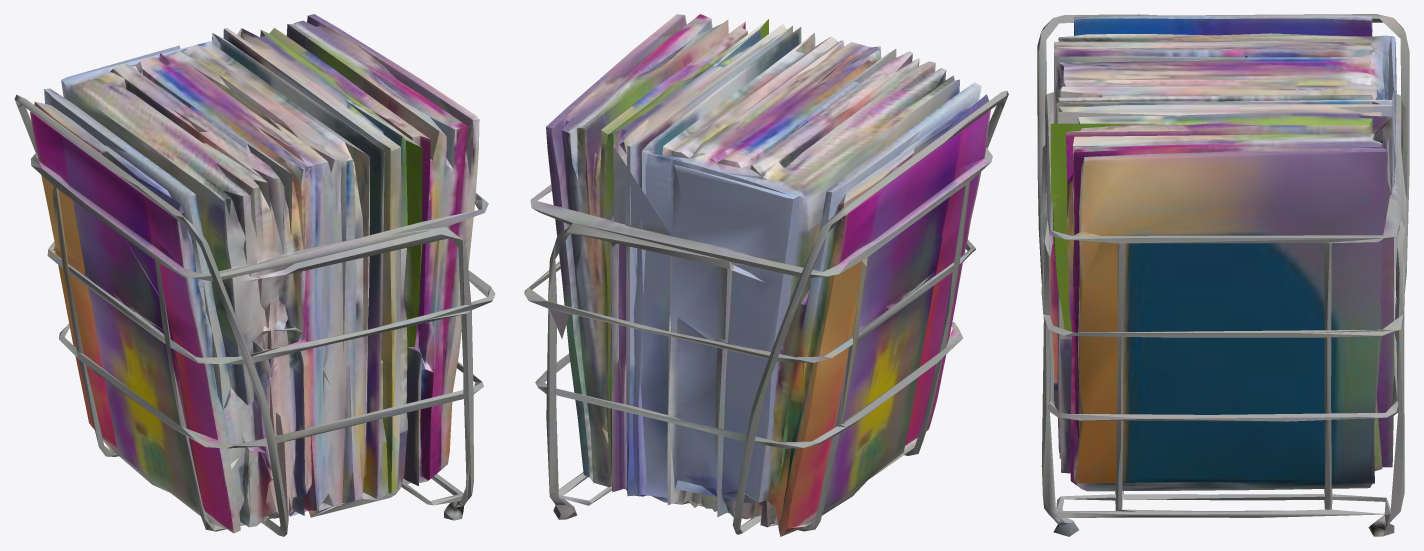
The model's file is rack.glb.
3 renders of one model, left to right at view 1: azimuth 30°, elevation 25°; view 2: azimuth 150°, elevation 25°; view 3: azimuth 270°, elevation 25°, orthographic.
Visible parts, largest first — view 1: rack; view 2: rack; view 3: rack.
Part boxes in pixels (box(x1,y1,x2,y2)): rack: box(14, 14, 495, 536); rack: box(524, 14, 1008, 536); rack: box(1037, 14, 1409, 536).
Bounding box in the file's own units: 1.13 × 1.3 × 1.11.
1 material, 1 textured.
